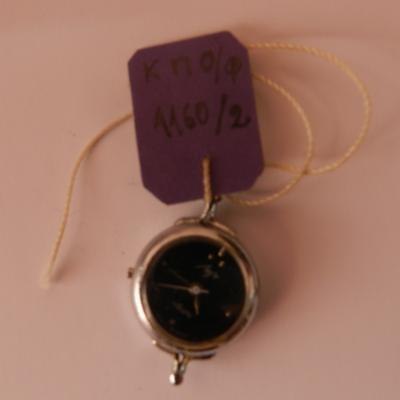technique: (130, 159, 261, 386)
